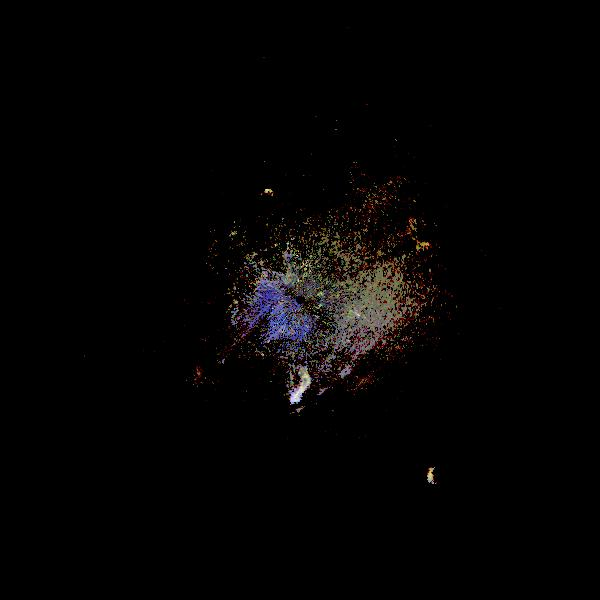roost: (401, 191, 467, 257), (419, 442, 479, 502), (271, 358, 322, 409), (264, 186, 276, 198)
